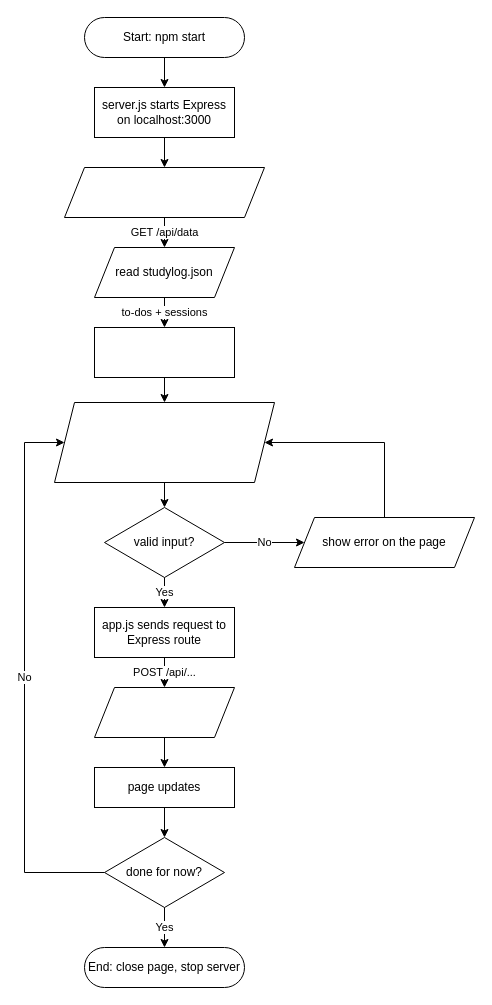
Some shapes in this 492 by 1005 pixel diagram are drawn without their labels. Here are the shapes that lost their labels. From the top down, the box of each, then its label:
(64, 166, 264, 218): user opens localhost:3000 in the browser
(94, 326, 234, 378): page shows to-dos, timer, and weekly hours
(54, 402, 274, 482): user adds a to-do, checks one off, logs hours, or starts / stops the timer
(94, 686, 234, 738): save studylog.json
